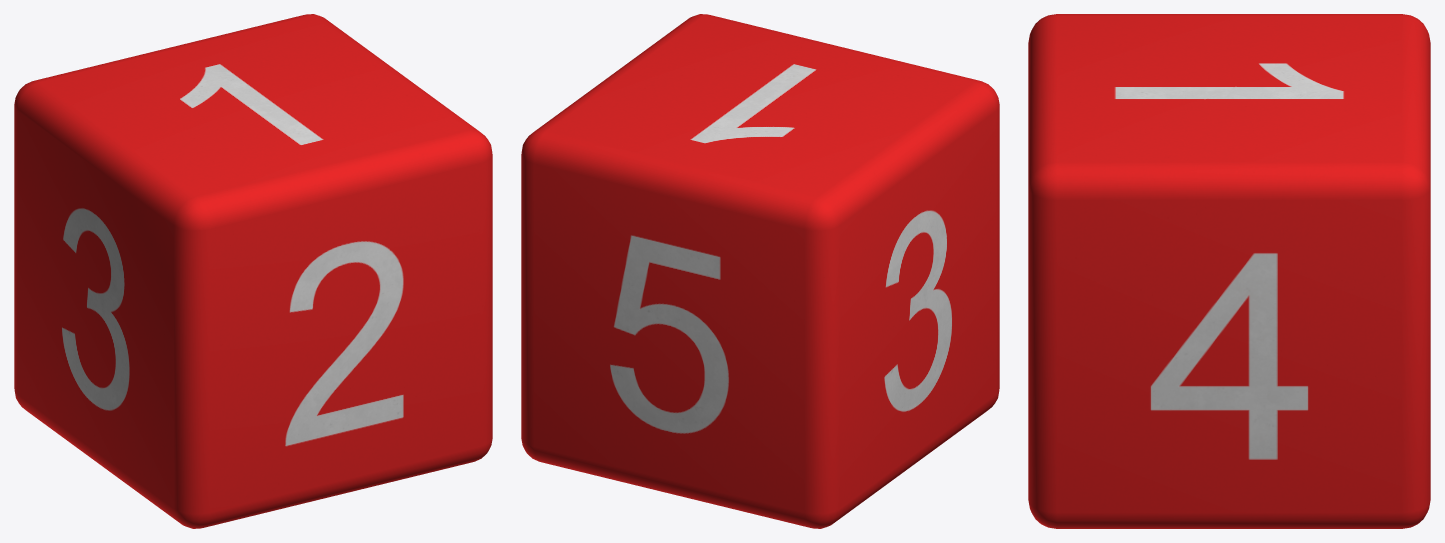
3 renders of one model, left to right at view 1: azimuth 30°, elevation 25°; view 2: azimuth 150°, elevation 25°; view 3: azimuth 270°, elevation 25°, orthographic. The views are drawn at different scales.
Parts seen in each view (by area): view 1: d6_red_plastic; view 2: d6_red_plastic; view 3: d6_red_plastic.
Part boxes in pixels (x1,y1,x2,y2): d6_red_plastic: (14, 14, 492, 528); d6_red_plastic: (521, 14, 999, 528); d6_red_plastic: (1028, 14, 1430, 528).
Size of the model in its own units: 1.4 by 1.4 by 1.4.
Materials: 1 (1 with a texture image).
